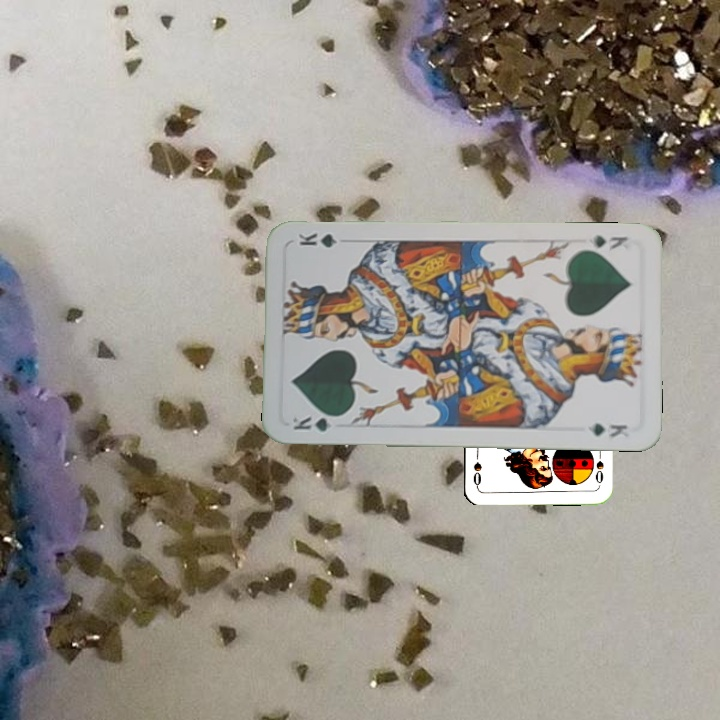GK: (288, 412, 345, 435), (584, 231, 631, 253)
SO: (591, 457, 606, 489)
